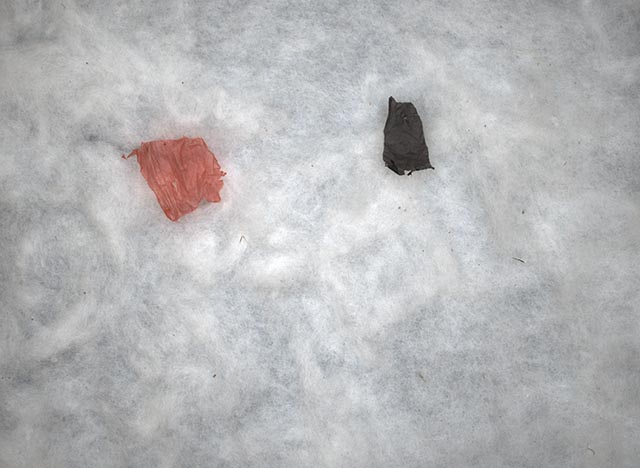plastic film: (121, 135, 226, 222), (381, 95, 436, 177)
